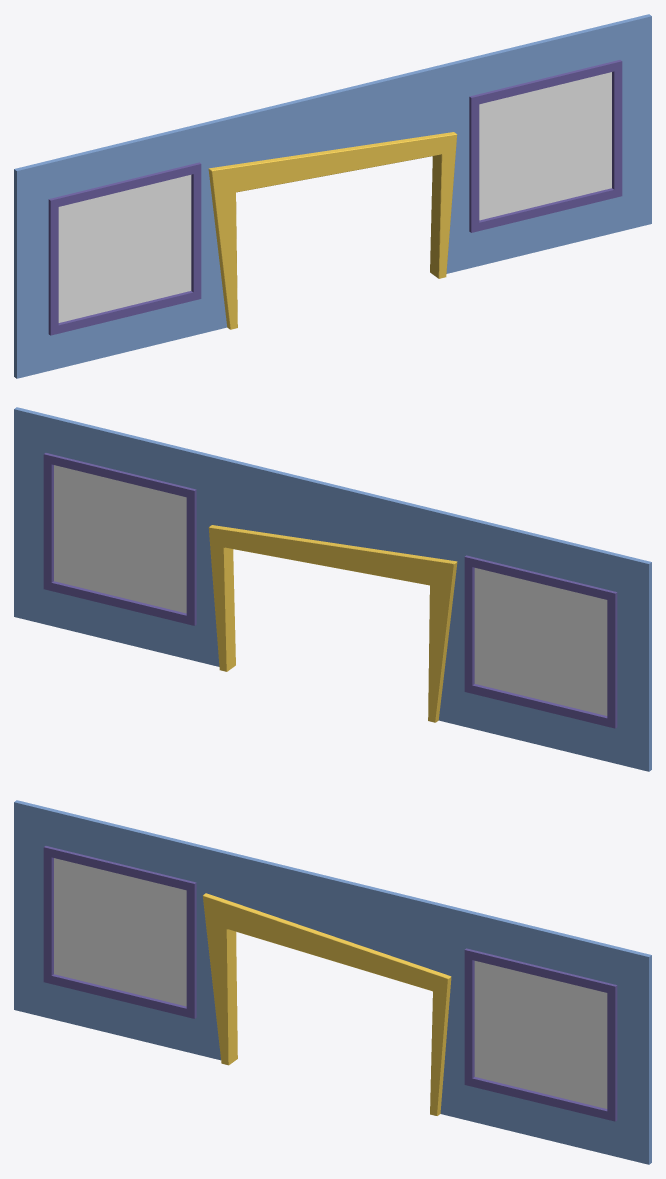
Rendered from 90sArcade_entranceWall_16m.fbx.
The picture shows the model from 3 angles, top to bottom: view 1: azimuth 30°, elevation 25°; view 2: azimuth 150°, elevation 25°; view 3: azimuth 330°, elevation 25°; orthographic projection.
Parts seen in each view (by area): view 1: Wallbase.001, WindowGlass.001, WindowFrame.001, doorFrame.001; view 2: Wallbase.001, WindowGlass.001, WindowFrame.001, doorFrame.001; view 3: Wallbase.001, WindowGlass.001, WindowFrame.001, doorFrame.001.
Boxes of the visible parts, <box> form: Wallbase.001: <box>14,14,651,378</box>; WindowGlass.001: <box>58,72,611,322</box>; WindowFrame.001: <box>48,60,622,335</box>; doorFrame.001: <box>208,132,457,329</box>; Wallbase.001: <box>14,407,651,771</box>; WindowGlass.001: <box>54,465,607,715</box>; WindowFrame.001: <box>43,453,617,728</box>; doorFrame.001: <box>208,525,457,722</box>; Wallbase.001: <box>14,800,651,1164</box>; WindowGlass.001: <box>54,858,607,1108</box>; WindowFrame.001: <box>43,846,617,1121</box>; doorFrame.001: <box>202,893,451,1115</box>.
Size of the model in its own units: 1600 by 500 by 40.
